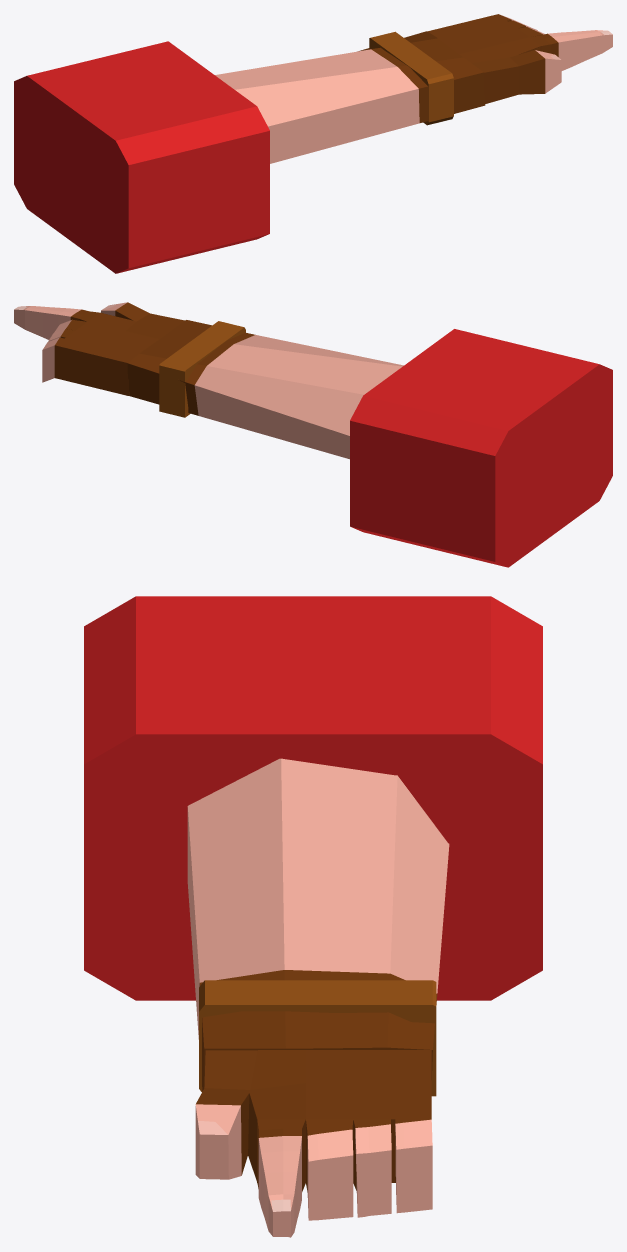
Rendered from BrazoMovilIzquierdo.fbx.
3 views of the same model, one above another, from view 1: azimuth 30°, elevation 25°; view 2: azimuth 150°, elevation 25°; view 3: azimuth 270°, elevation 25° (orthographic). The views are drawn at different scales.
Parts seen in each view (by area): view 1: Cube.034, Brazos I.001, Mano I.001, Cube.008; view 2: Cube.034, Brazos I.001, Mano I.001, Cube.008; view 3: Cube.034, Brazos I.001, Mano I.001, Cube.008.
Part boxes in pixels (box(x1,y1,x2,y2)): Cube.034: box(14, 41, 269, 273); Brazos I.001: box(215, 31, 485, 163); Mano I.001: box(427, 14, 612, 104); Cube.008: box(369, 31, 453, 125); Cube.034: box(350, 329, 612, 567); Brazos I.001: box(127, 320, 403, 459); Mano I.001: box(14, 302, 184, 395); Cube.008: box(159, 321, 245, 417); Cube.034: box(84, 596, 542, 1000); Brazos I.001: box(187, 758, 449, 1091); Mano I.001: box(195, 1050, 432, 1237); Cube.008: box(199, 980, 436, 1096).
Bounding box in the file's own units: 51.88 × 12.42 × 19.38.
